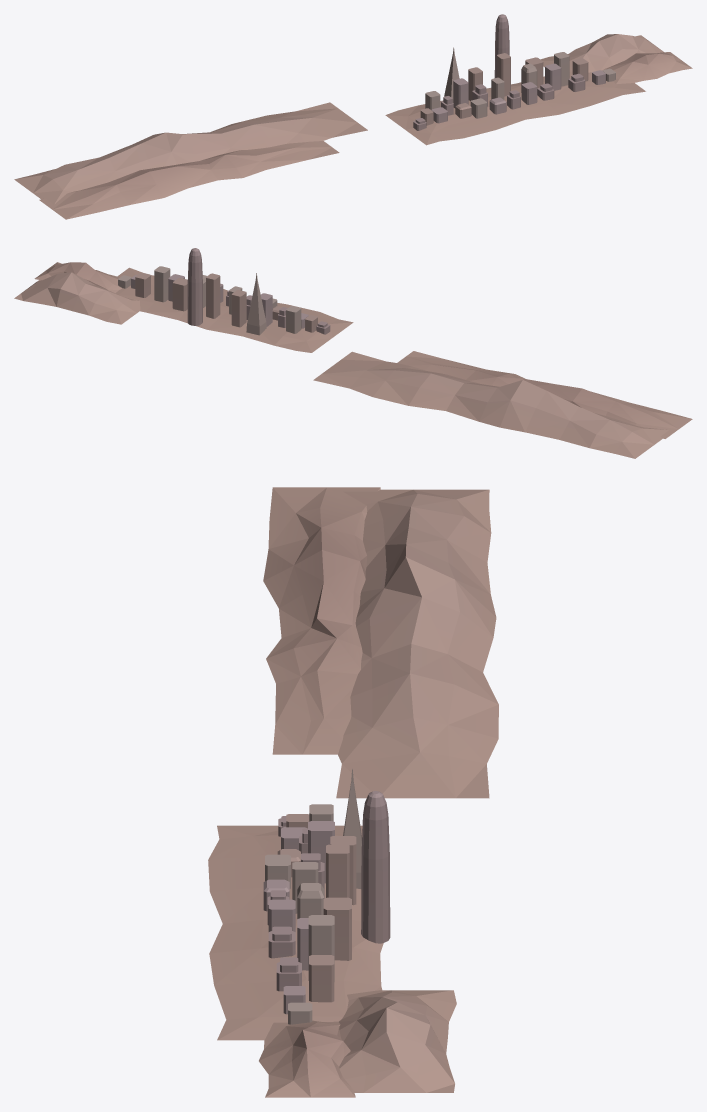
File: bay-backdrop.glb
3 views of the same model, one above another, from view 1: azimuth 30°, elevation 25°; view 2: azimuth 150°, elevation 25°; view 3: azimuth 270°, elevation 25° (orthographic). The views are drawn at different scales.
Parts seen in each view (by area): view 1: Bay_DistantRidges, Bay_SkylineBlocks, Bay_CityShore, Bay_RoundedTower, Bay_PyramidSpire; view 2: Bay_DistantRidges, Bay_SkylineBlocks, Bay_CityShore, Bay_RoundedTower, Bay_PyramidSpire; view 3: Bay_DistantRidges, Bay_CityShore, Bay_SkylineBlocks, Bay_RoundedTower, Bay_PyramidSpire.
Part boxes in pixels (box(x1,y1,x2,y2)): Bay_DistantRidges: box(14, 34, 692, 219); Bay_SkylineBlocks: box(413, 52, 615, 130); Bay_CityShore: box(385, 72, 645, 145); Bay_RoundedTower: box(494, 14, 509, 77); Bay_PyramidSpire: box(444, 47, 459, 102); Bay_DistantRidges: box(14, 262, 692, 458); Bay_SkylineBlocks: box(118, 266, 330, 334); Bay_CityShore: box(115, 267, 353, 352); Bay_RoundedTower: box(187, 248, 202, 325); Bay_PyramidSpire: box(246, 273, 266, 335); Bay_DistantRidges: box(259, 487, 498, 1097); Bay_CityShore: box(208, 825, 383, 1040); Bay_SkylineBlocks: box(263, 804, 356, 1024); Bay_RoundedTower: box(361, 791, 390, 943); Bay_PyramidSpire: box(343, 769, 361, 888).
Bounding box in the file's own units: 267 × 29.8 × 53.76.
